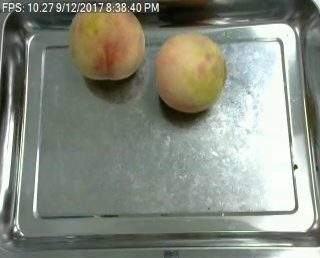Peach: (69, 3, 146, 81), (154, 32, 227, 113)
